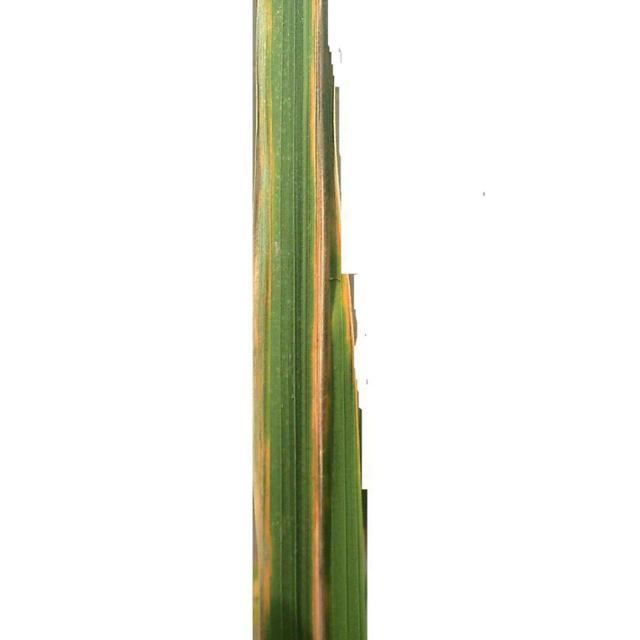leaf blight: (254, 3, 368, 637)
